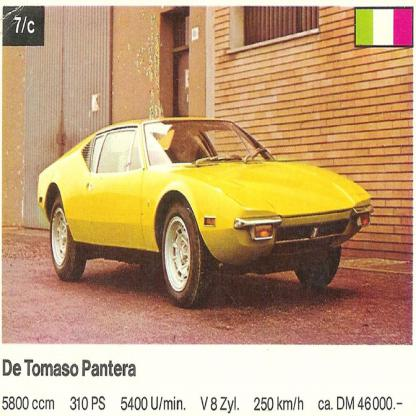Car: (38, 116, 374, 310)
